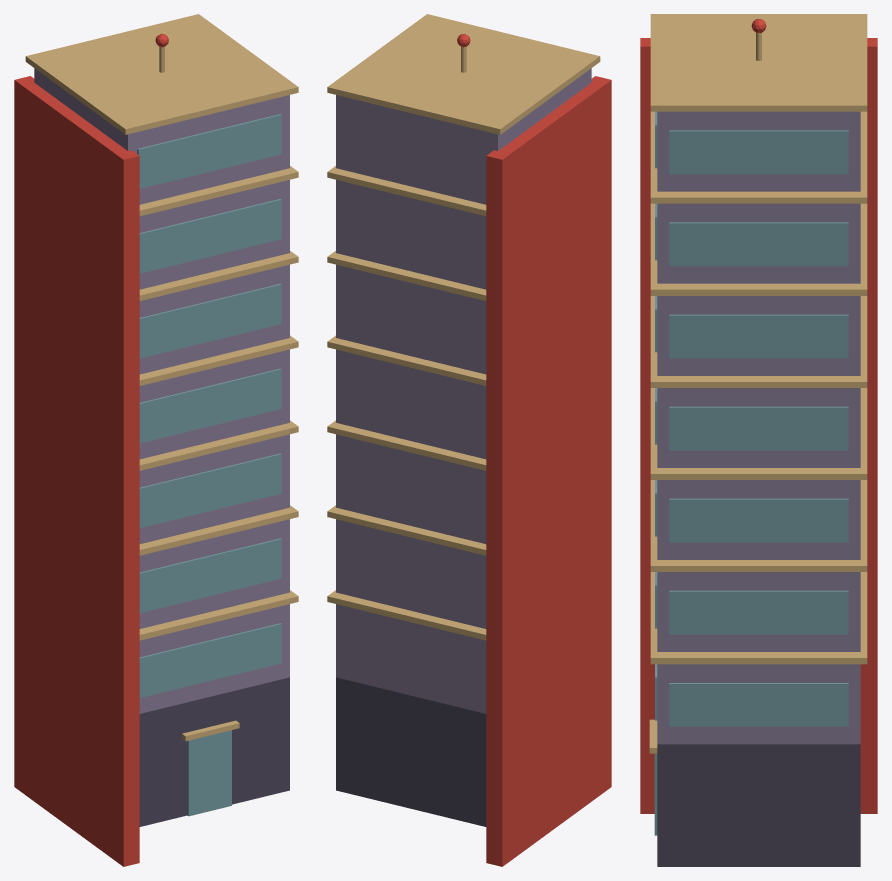
The picture shows the model from 3 angles, left to right: view 1: azimuth 30°, elevation 25°; view 2: azimuth 150°, elevation 25°; view 3: azimuth 270°, elevation 25°; orthographic projection. The views are drawn at different scales.
Parts seen in each view (by area): view 1: RC-007 Fin backed tower batched; view 2: RC-007 Fin backed tower batched; view 3: RC-007 Fin backed tower batched.
Boxes of the visible parts, <box> form: RC-007 Fin backed tower batched: <box>14,14,298,866</box>; RC-007 Fin backed tower batched: <box>327,14,611,866</box>; RC-007 Fin backed tower batched: <box>640,14,877,866</box>.
Size of the model in its own units: 6.65 by 27.22 by 7.
